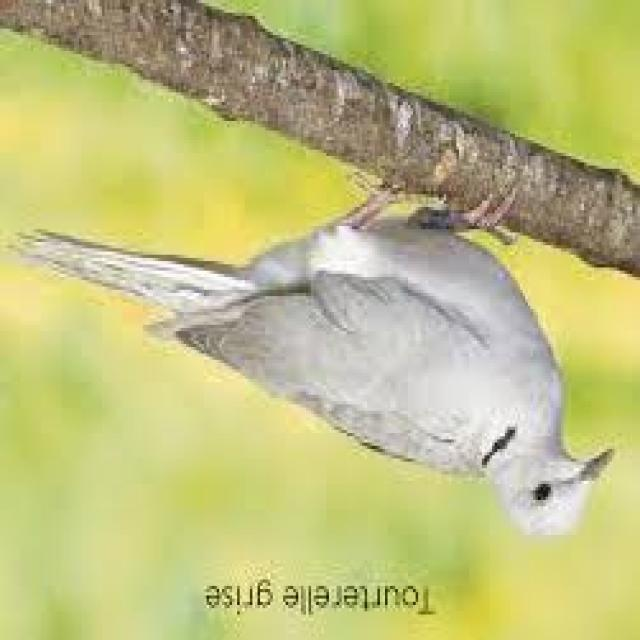pigeon: (8, 115, 617, 549)
